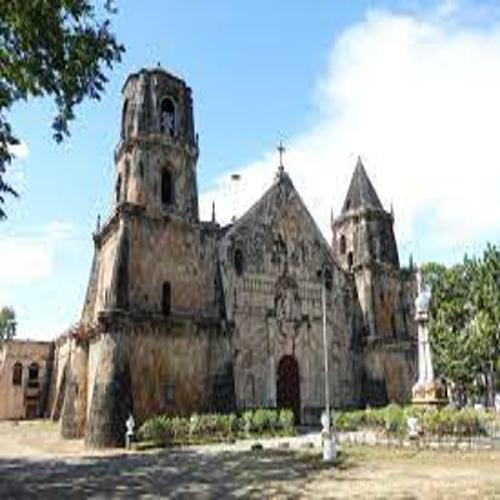Miagao Church: (65, 57, 437, 433)
